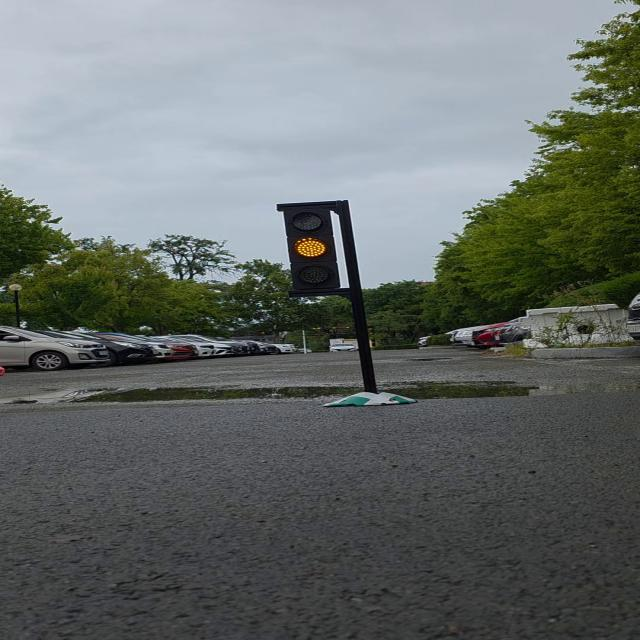yellow: (286, 204, 348, 296)
